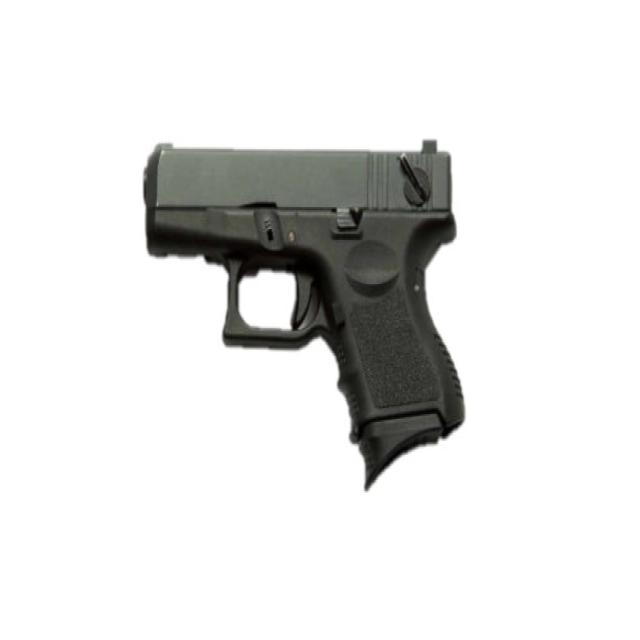pistol: (135, 132, 474, 507)
